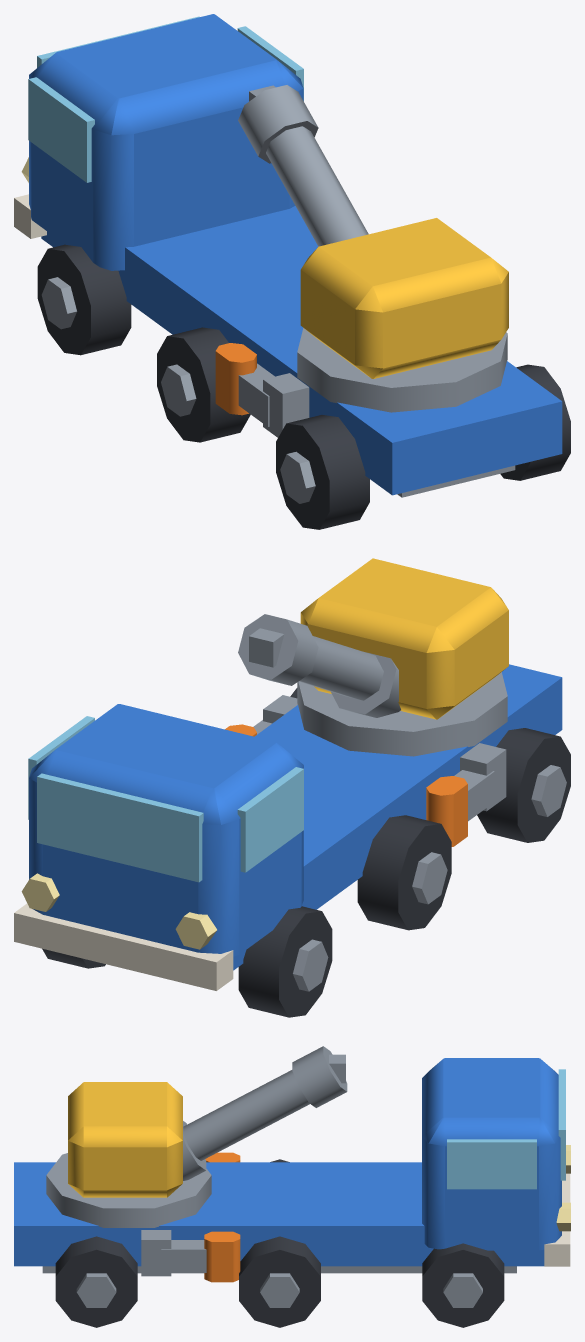
The model's file is unit-artillery.glb.
The picture shows the model from 3 angles, top to bottom: view 1: azimuth 30°, elevation 25°; view 2: azimuth 150°, elevation 25°; view 3: azimuth 270°, elevation 25°; orthographic projection. The views are drawn at different scales.
Visible parts, largest first — view 1: cab, chassis, turret, wheel (×4), barrel, stabiliser_left; view 2: cab, turret, wheel (×3), chassis, barrel, stabiliser_left, muzzle, stabiliser_right; view 3: chassis, cab, turret, wheel (×3), barrel, stabiliser_right, muzzle.
Part boxes in pixels (<box>): cab: <box>14,14,303,270</box>; chassis: <box>41,206,562,497</box>; turret: <box>297,218,508,412</box>; wheel (×4): <box>37,244,570,529</box>; barrel: <box>238,85,368,246</box>; stabiliser_left: <box>215,343,309,437</box>; cab: <box>14,704,303,990</box>; turret: <box>297,558,508,756</box>; wheel (×3): <box>238,728,570,1017</box>; chassis: <box>233,664,562,970</box>; barrel: <box>238,614,400,717</box>; stabiliser_left: <box>426,743,506,846</box>; muzzle: <box>249,628,284,667</box>; stabiliser_right: <box>225,695,297,736</box>; chassis: <box>14,1162,544,1273</box>; cab: <box>422,1058,570,1266</box>; turret: <box>46,1082,211,1227</box>; wheel (×3): <box>55,1236,504,1327</box>; barrel: <box>183,1046,347,1180</box>; stabiliser_right: <box>141,1230,240,1282</box>; muzzle: <box>329,1054,345,1083</box>.
Size of the model in its own units: 3.22 by 3.57 by 7.75.
